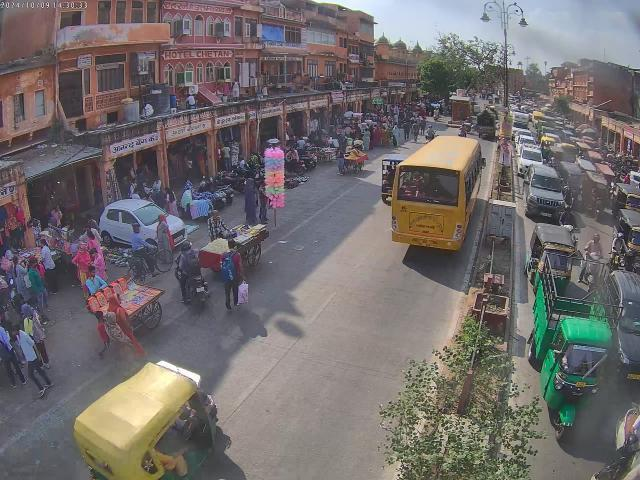auto: (72, 360, 220, 480), (520, 258, 612, 441), (525, 223, 577, 296), (614, 184, 640, 214)
bus: (390, 135, 484, 259)
car: (616, 255, 640, 406), (524, 164, 572, 221)
license_plate: (418, 239, 432, 247)
motorbike-rider: (172, 240, 212, 312), (609, 230, 637, 268), (556, 206, 578, 233)
person: (215, 241, 248, 312)
scooty-rider: (580, 234, 604, 292)
vendor: (90, 274, 164, 352), (222, 223, 268, 267), (337, 146, 366, 175)
